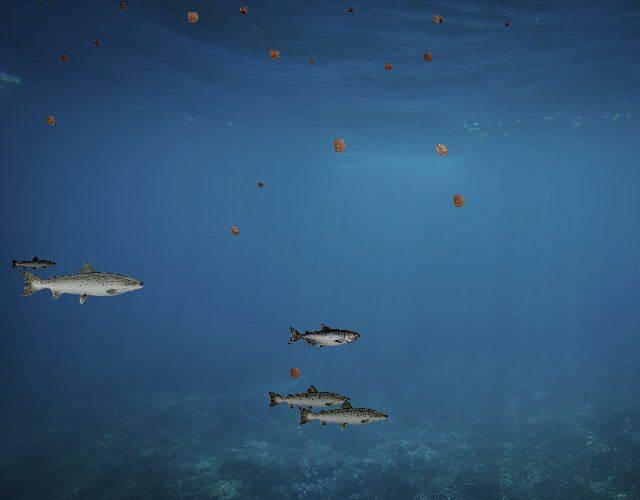Fish: (18, 259, 147, 305), (297, 399, 391, 432), (266, 383, 352, 414), (287, 324, 360, 350), (11, 256, 58, 272)
Pellet: (428, 136, 455, 163), (446, 188, 472, 214), (181, 6, 204, 29), (284, 362, 306, 384), (226, 222, 243, 240), (116, 0, 130, 13), (254, 178, 266, 190)
